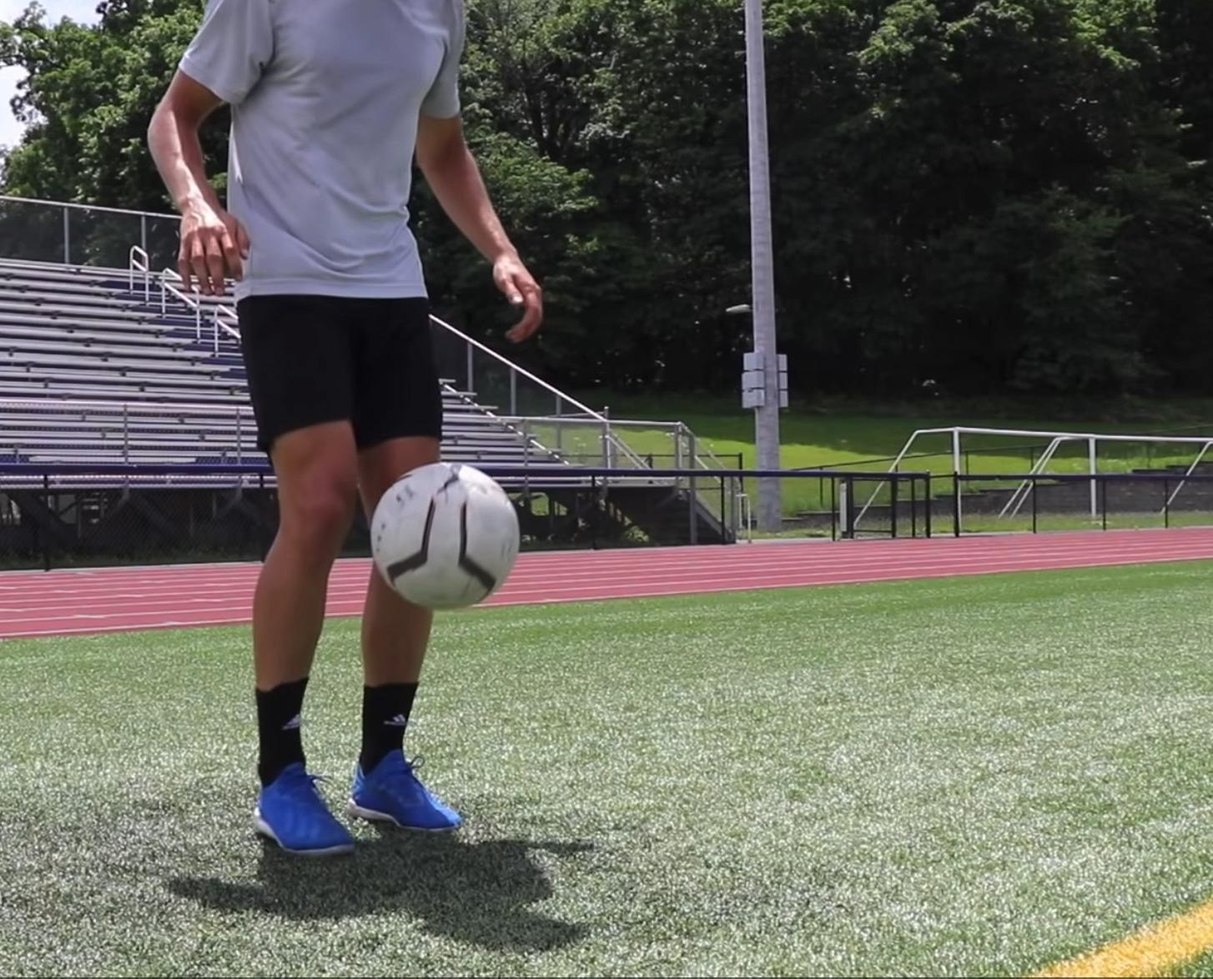ball: (368, 464, 520, 611)
foot: (253, 764, 360, 860), (352, 748, 466, 837)
person: (145, 0, 536, 855)
